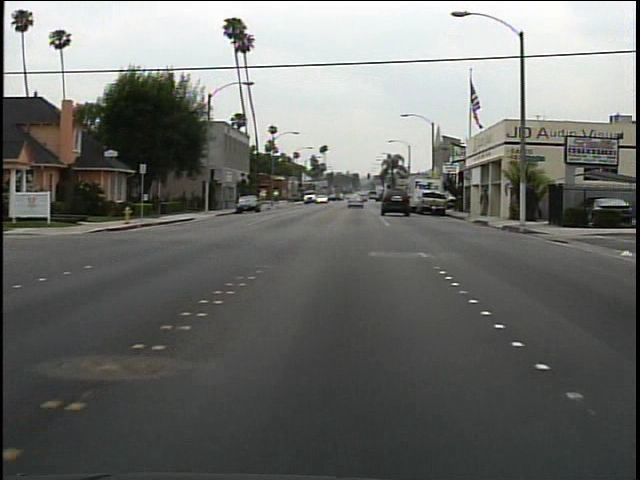person: (477, 187, 495, 219)
